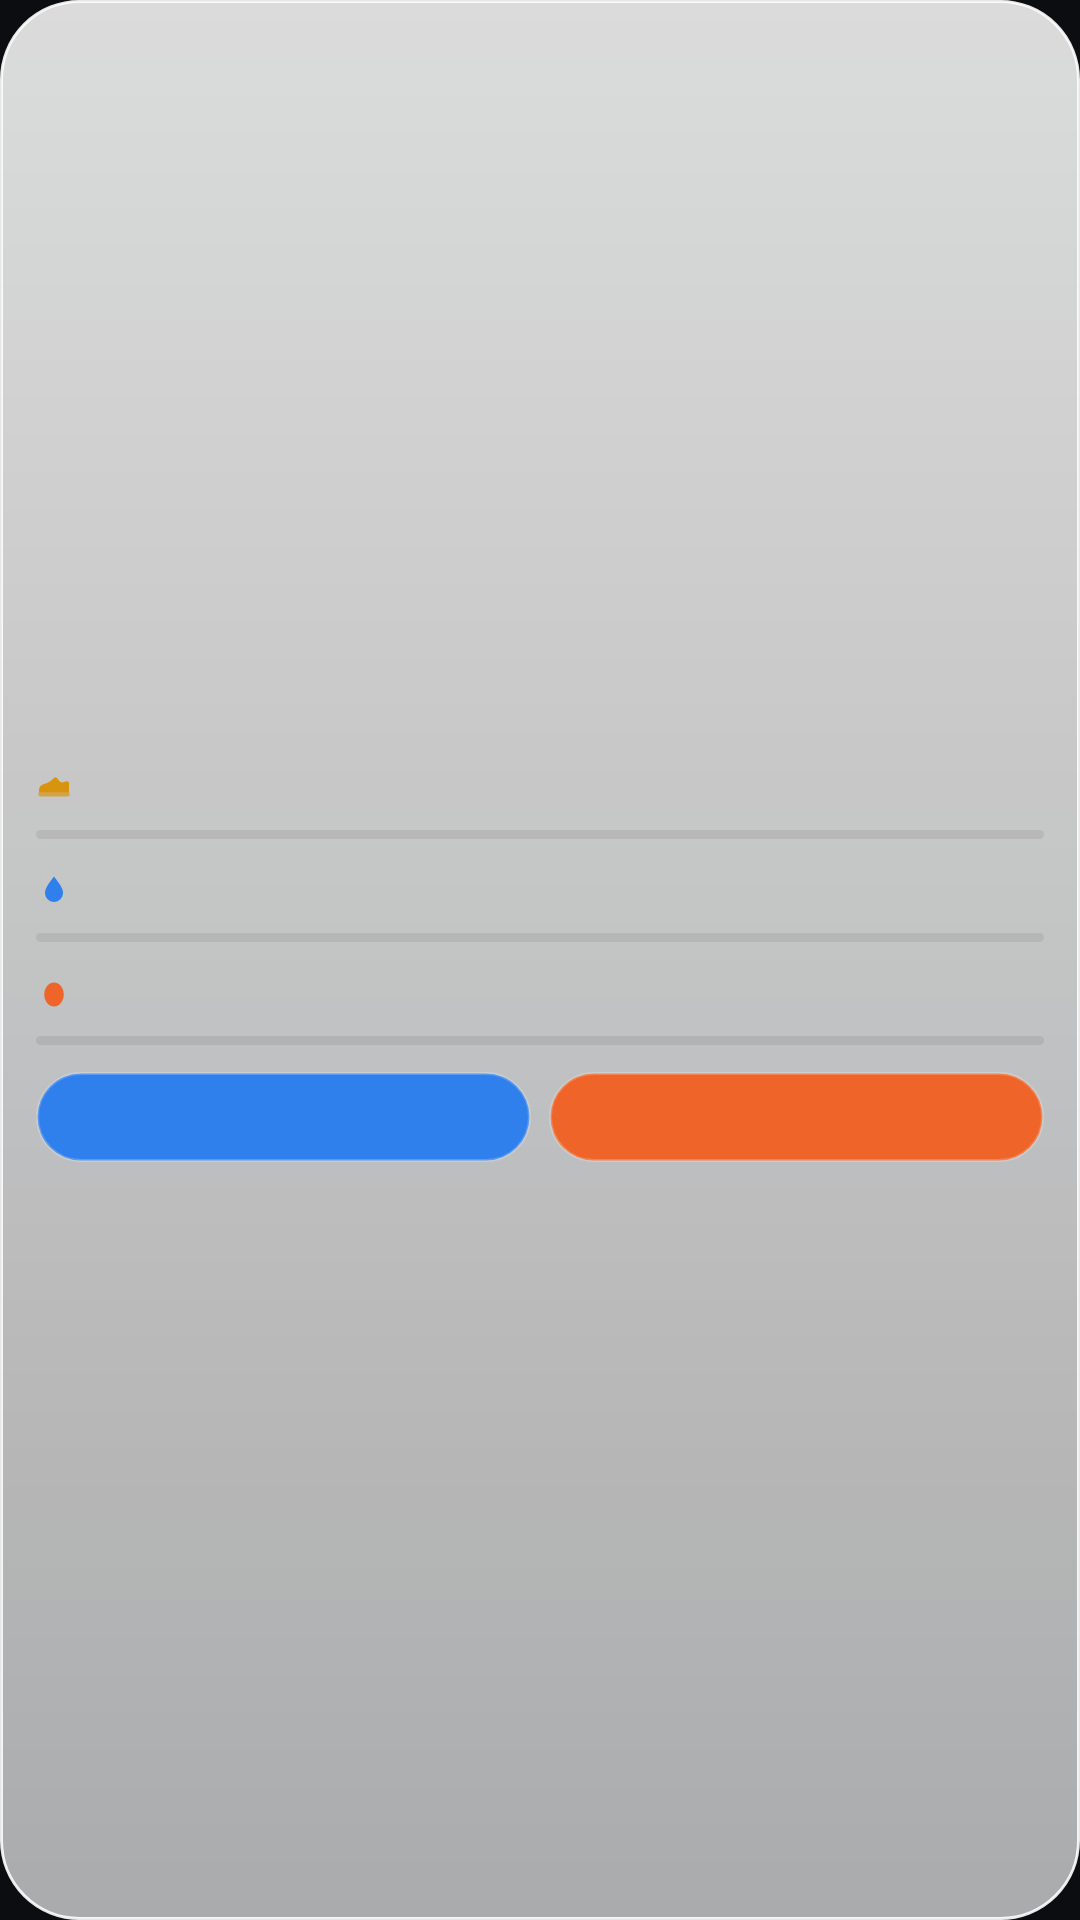

Icons on this 1080w x 1920h Android screen, each with its box as [x1, y1, x2, y2]:
widget drop: [45, 877, 63, 902]
